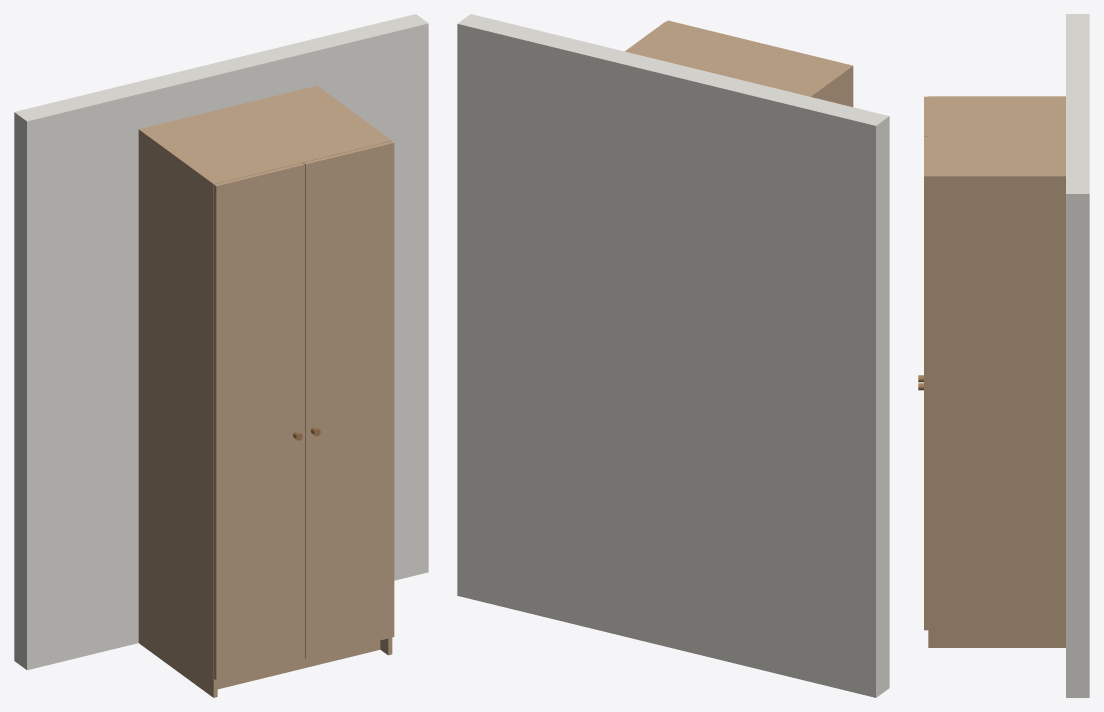
3 views of the same model, side by side, from view 1: azimuth 30°, elevation 25°; view 2: azimuth 150°, elevation 25°; view 3: azimuth 270°, elevation 25° (orthographic). The views are drawn at different scales.
Visible parts, largest first — view 1: Room: Back wall, Door, left (hinged left), Door, right (hinged right), Side, left, Top, Plinth; view 2: Room: Back wall, Top, Side, left; view 3: Side, right, Room: Back wall, Top, Door, right (hinged right).
Boxes of the visible parts, x1,y1,x2,y2 form: Room: Back wall: (14, 14, 428, 670); Door, left (hinged left): (214, 163, 304, 680); Door, right (hinged right): (303, 141, 394, 658); Side, left: (138, 128, 217, 697); Top: (143, 87, 387, 183); Plinth: (217, 640, 380, 689); Room: Back wall: (457, 14, 889, 697); Top: (629, 22, 846, 95); Side, left: (807, 66, 851, 106); Side, right: (928, 174, 1065, 647); Room: Back wall: (1066, 14, 1089, 697); Top: (928, 98, 1065, 174); Door, right (hinged right): (924, 136, 928, 630).
Size of the model in its own units: 1.8 by 2.35 by 0.725.
